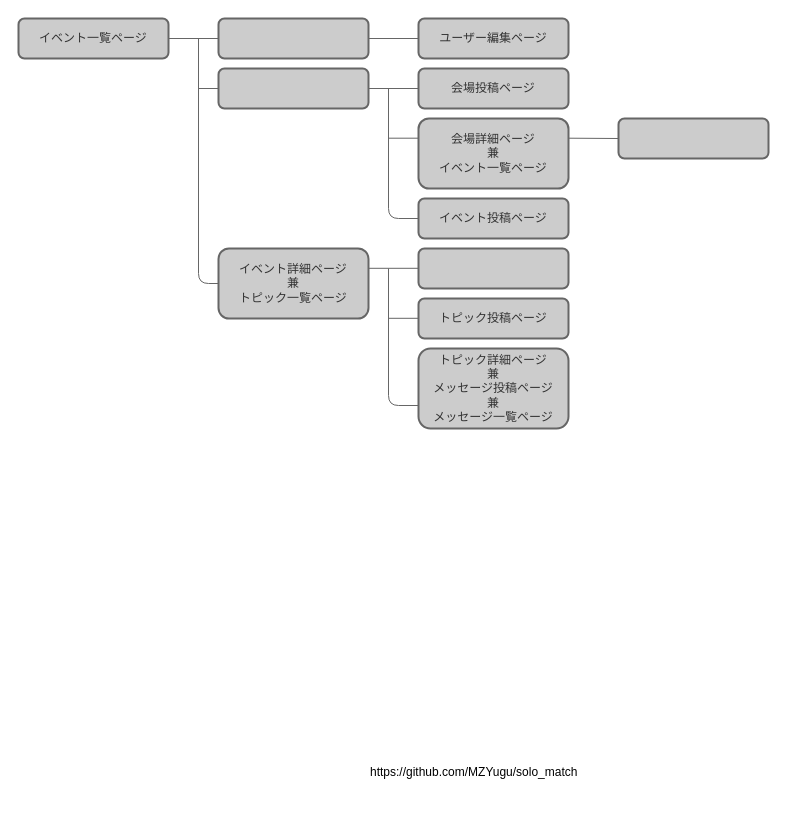
This 786x815 diagram has some shape labels left out. The centre of each missing label's shape, as x and y in pixels:
"イベント編集ページ" goes at (x=493, y=268).
"ユーザー詳細ページ" goes at (x=293, y=38).
"会場一覧ページ" goes at (x=293, y=88).
"会場編集ページ" goes at (x=693, y=138).
